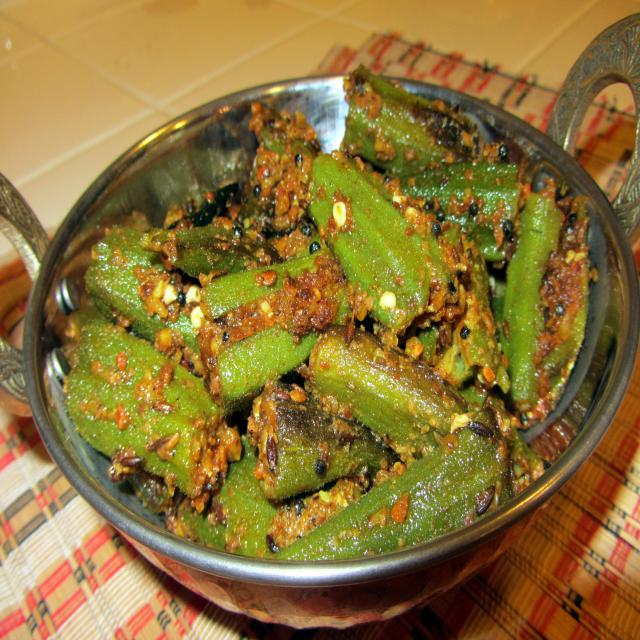BhindiMasala: (63, 65, 590, 562)
